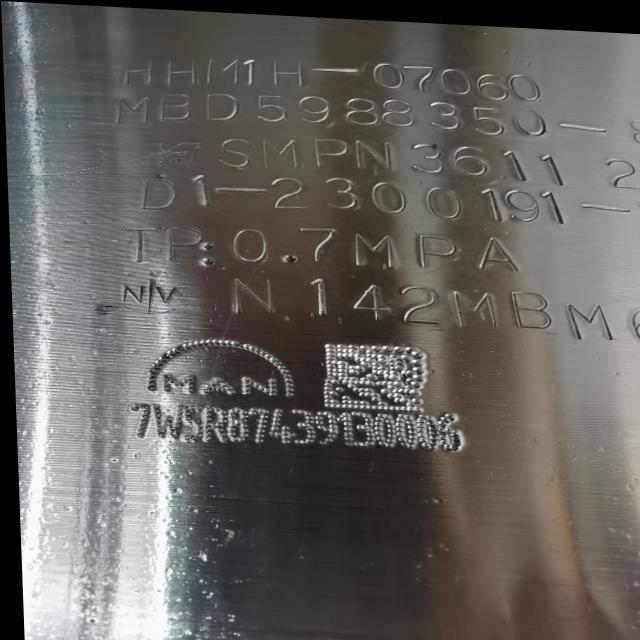dmc: (320, 339, 422, 407)
